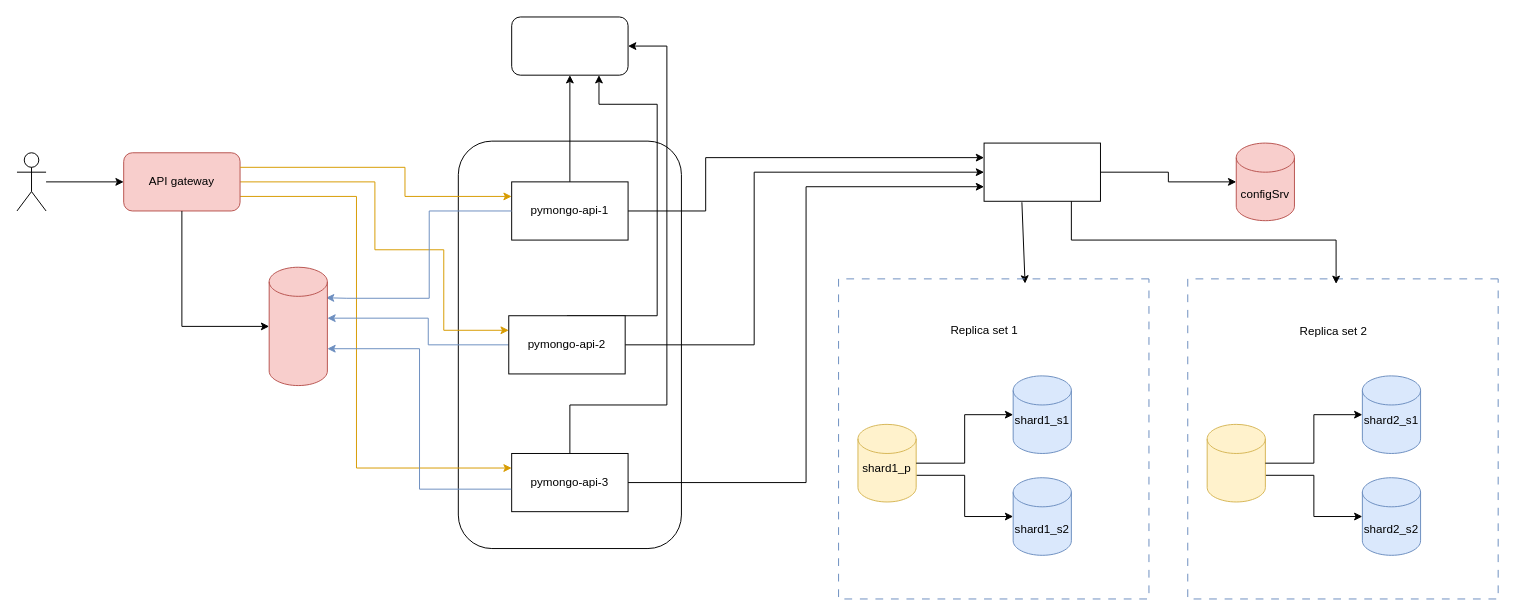
Image size: 1515x616. Some labels were removed from this diagram. The shapes that lost their labels are listed below. From the top down, each one's centre as x and y in pixels, then its label:
At pixel 569 45: "redis".
At pixel 31 181: "user".
At pixel 1041 171: "mongos".
At pixel 297 326: "Consul".
At pixel 1235 462: "shard2_p".
